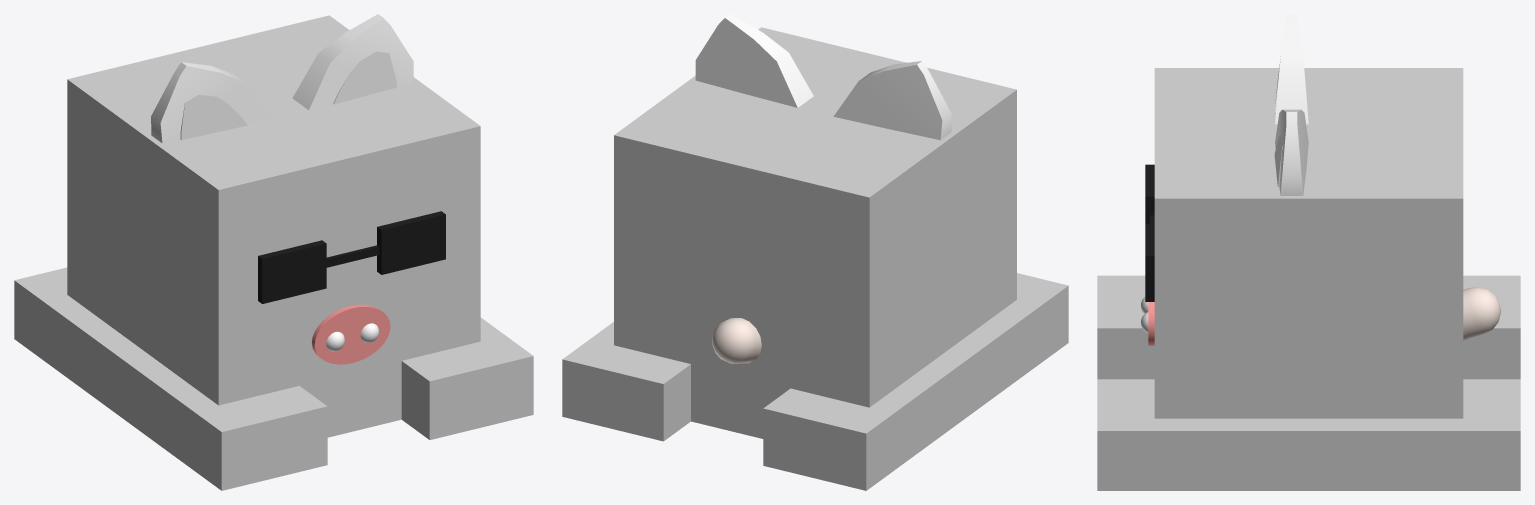
File: pig-with-sunglass.fbx
3 renders of one model, left to right at view 1: azimuth 30°, elevation 25°; view 2: azimuth 150°, elevation 25°; view 3: azimuth 270°, elevation 25°, orthographic. The views are drawn at different scales.
Parts seen in each view (by area): view 1: body_10, cube_17, 立方体_4, cube_16, nose_21, nose_20, 立方体_3; view 2: body_10, cube_17, tail_9; view 3: body_10, cube_17, tail_9, 立方体_4.
Boxes of the visible parts, bbox=[...] form: body_10: bbox=[14, 15, 533, 490]; cube_17: bbox=[151, 14, 413, 143]; 立方体_4: bbox=[258, 211, 445, 303]; cube_16: bbox=[180, 51, 396, 139]; nose_21: bbox=[311, 304, 390, 364]; nose_20: bbox=[326, 323, 378, 351]; 立方体_3: bbox=[326, 245, 379, 267]; body_10: bbox=[562, 27, 1068, 490]; cube_17: bbox=[695, 14, 951, 140]; tail_9: bbox=[712, 317, 761, 363]; body_10: bbox=[1097, 68, 1520, 490]; cube_17: bbox=[1275, 14, 1308, 195]; tail_9: bbox=[1463, 287, 1501, 340]; 立方体_4: bbox=[1145, 164, 1154, 301].
Bounding box in the file's own units: 47.6 × 50.04 × 54.84.
